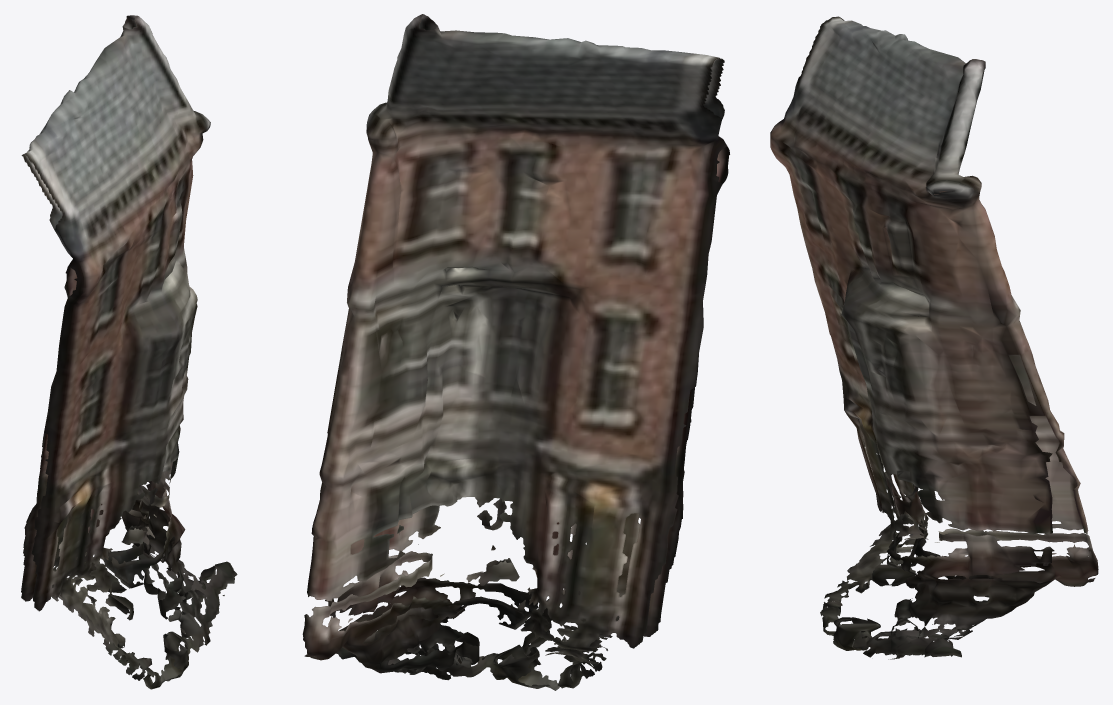
File: townhouse.glb
3 views of the same model, side by side, from view 1: azimuth 30°, elevation 25°; view 2: azimuth 150°, elevation 25°; view 3: azimuth 270°, elevation 25° (orthographic). The views are drawn at different scales.
Parts seen in each view (by area): view 1: geometry_0; view 2: geometry_0; view 3: geometry_0.
Boxes of the visible parts, x1,y1,x2,y2 form: geometry_0: [21, 15, 237, 689]; geometry_0: [302, 14, 729, 690]; geometry_0: [770, 16, 1098, 659].
Size of the model in its own units: 0.5054 by 0.9393 by 0.4624.
1 material, 1 textured.
